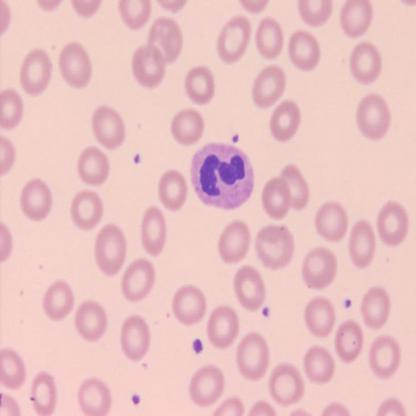Segmented neutrophil: (190, 141, 256, 213)
